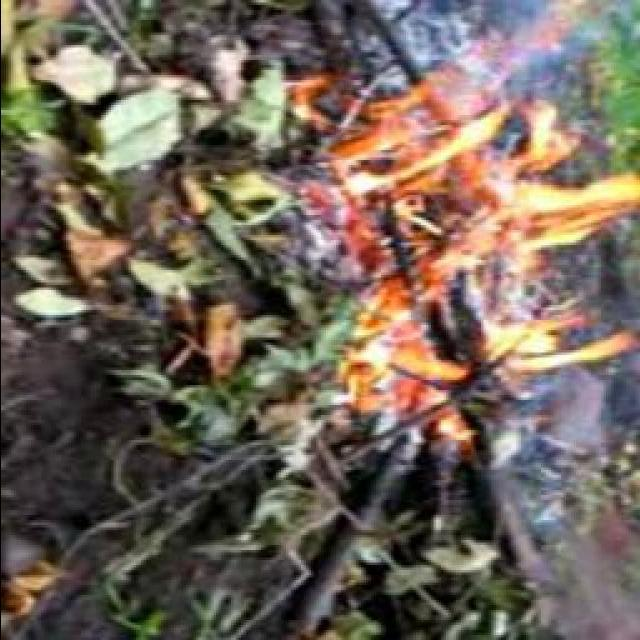Fire: (352, 73, 630, 426)
